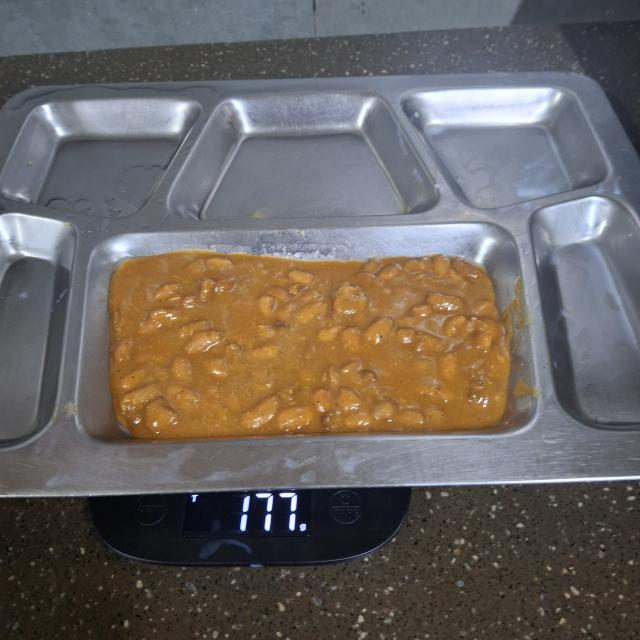Dal: (106, 250, 516, 441)
